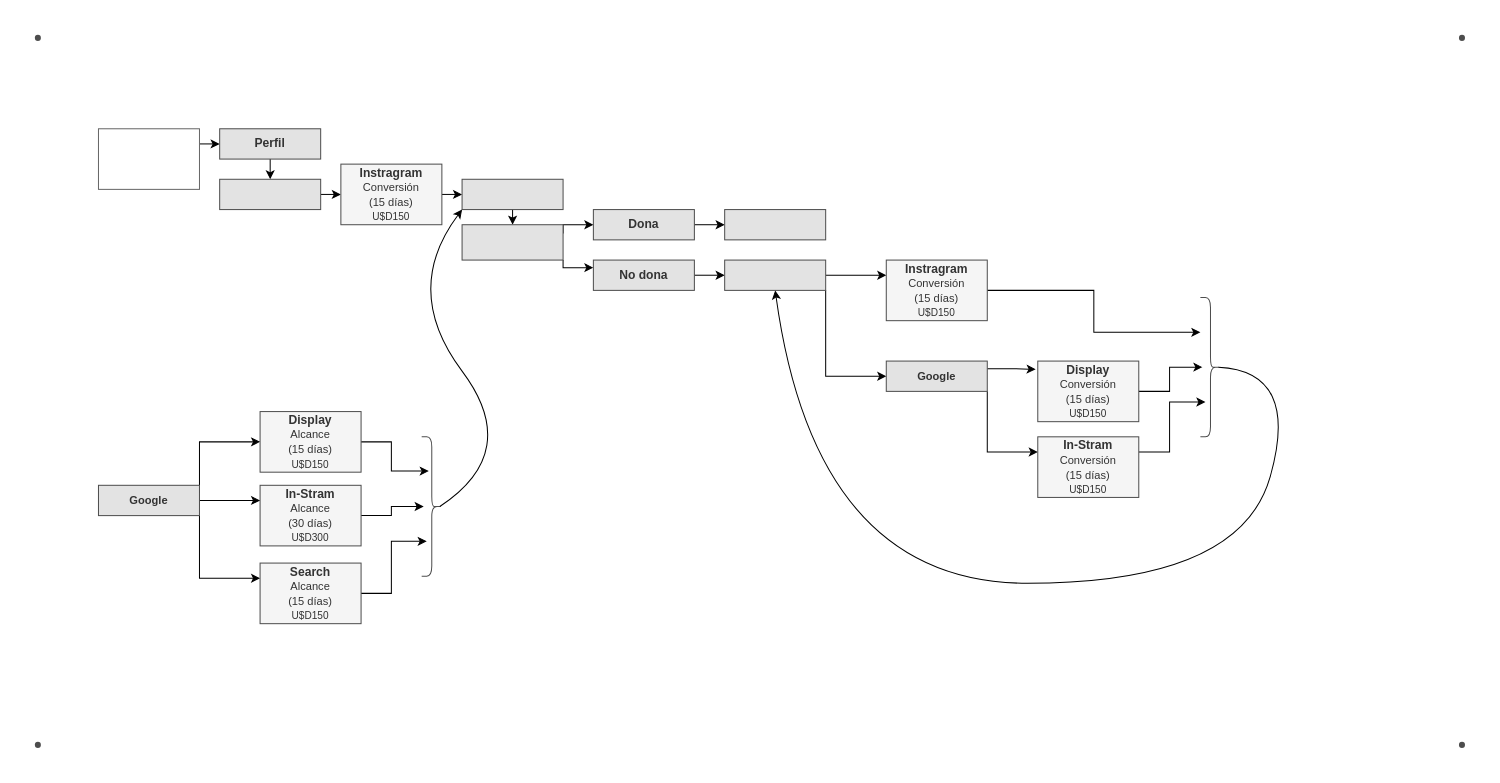
Some shapes in this 1500 by 783 pixel diagram are drawn without their labels. The centre of each missing label's shape, as x and y in pixels:
"Instragram Alcance (30 días) U$D300" goes at point 148,158.
"Landing page" goes at point 512,194.
"Remarketing" goes at point 775,274.
"Thanks you page" goes at point 775,224.
"Track id fb + google" goes at point 512,242.
"Track id ig" goes at point 270,194.
